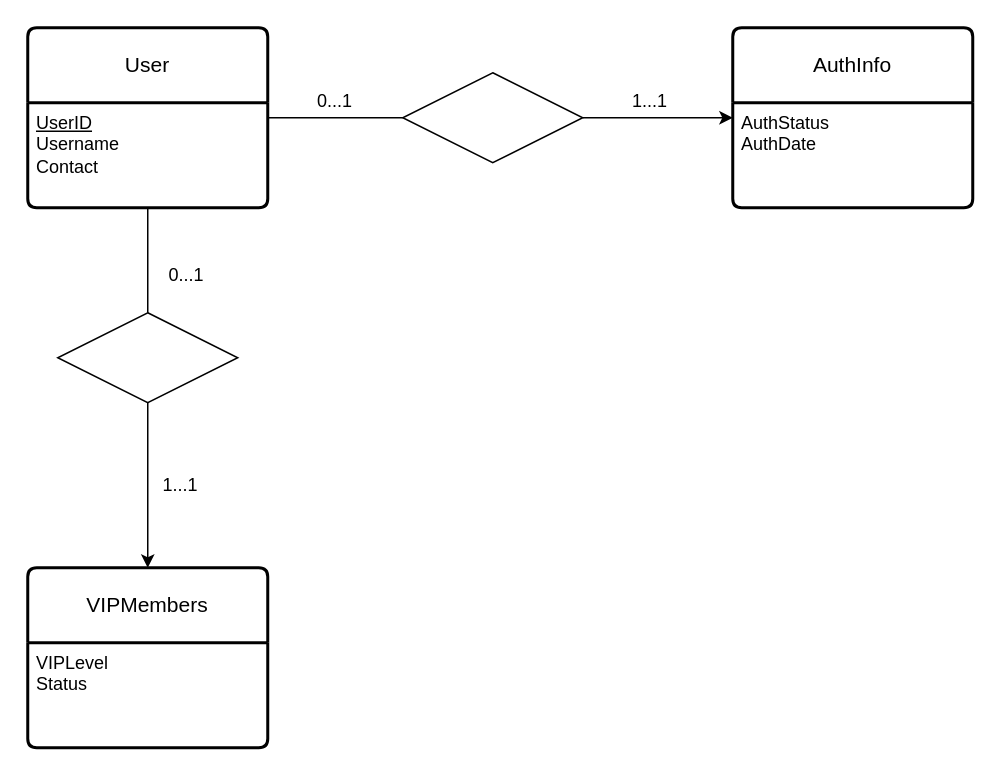
Image size: 999x774. Some labels were removed from this diagram. Here are the shapes that lost their labels. From the top down, the centre of each, then its label:
the point at 492,117: User_Auth
the point at 147,357: User_VIP
